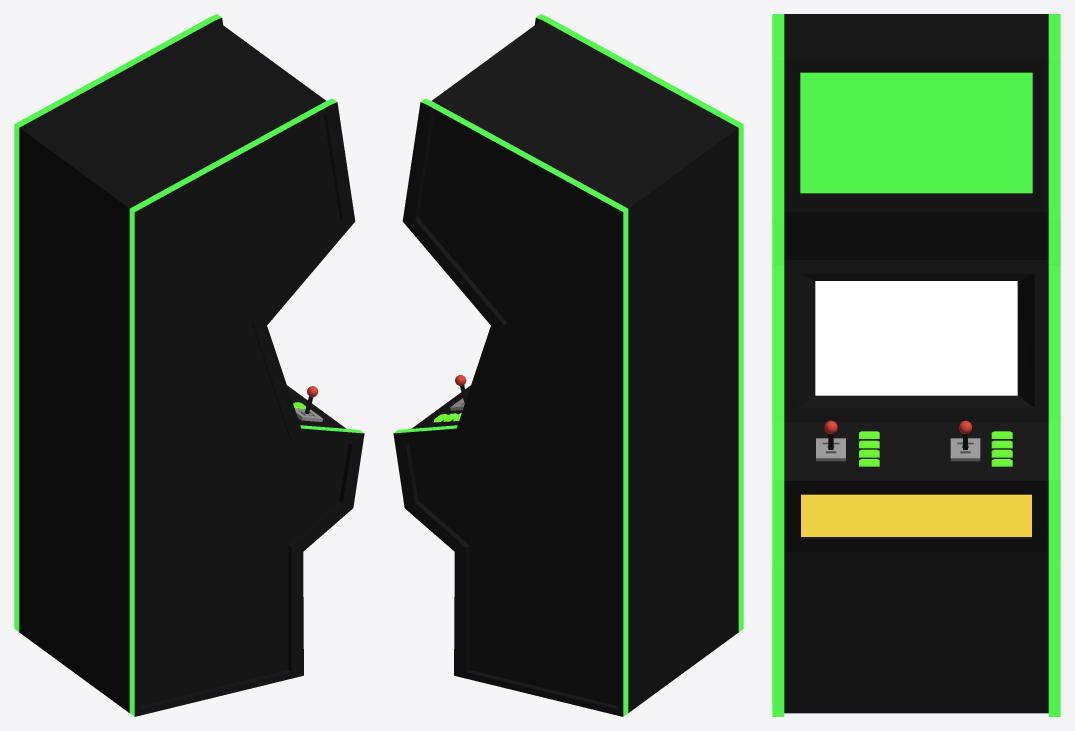
The model's file is arcade.glb.
3 views of the same model, side by side, from view 1: azimuth 30°, elevation 25°; view 2: azimuth 150°, elevation 25°; view 3: azimuth 270°, elevation 25° (orthographic). The views are drawn at different scales.
Visible parts, largest first — view 1: arcade; view 2: arcade; view 3: arcade.
Boxes of the visible parts, box(x1,y1,x2,y2) form: arcade: box(14, 14, 364, 716); arcade: box(393, 14, 743, 716); arcade: box(772, 14, 1060, 716).
Bounding box in the file's own units: 0.6314 × 1.48 × 0.5726.
